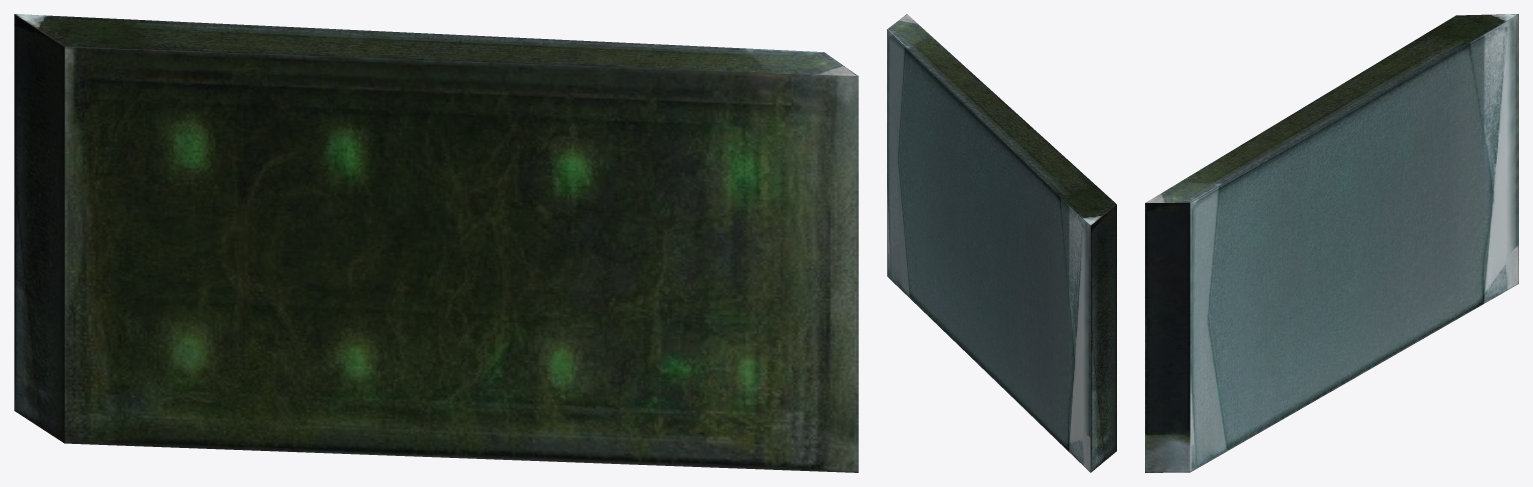
The model's file is murs_cible_left_lvl_1.glb.
3 views of the same model, side by side, from view 1: azimuth 30°, elevation 25°; view 2: azimuth 150°, elevation 25°; view 3: azimuth 270°, elevation 25° (orthographic). The views are drawn at different scales.
Parts seen in each view (by area): view 1: Mesh_0.004; view 2: Mesh_0.004; view 3: Mesh_0.004.
Boxes of the visible parts, x1,y1,x2,y2 form: Mesh_0.004: [14, 14, 858, 472]; Mesh_0.004: [887, 14, 1116, 472]; Mesh_0.004: [1145, 14, 1518, 472].
Bounding box in the file's own units: 0.1347 × 0.0896 × 0.1125.
Materials: 1 (1 with a texture image).
